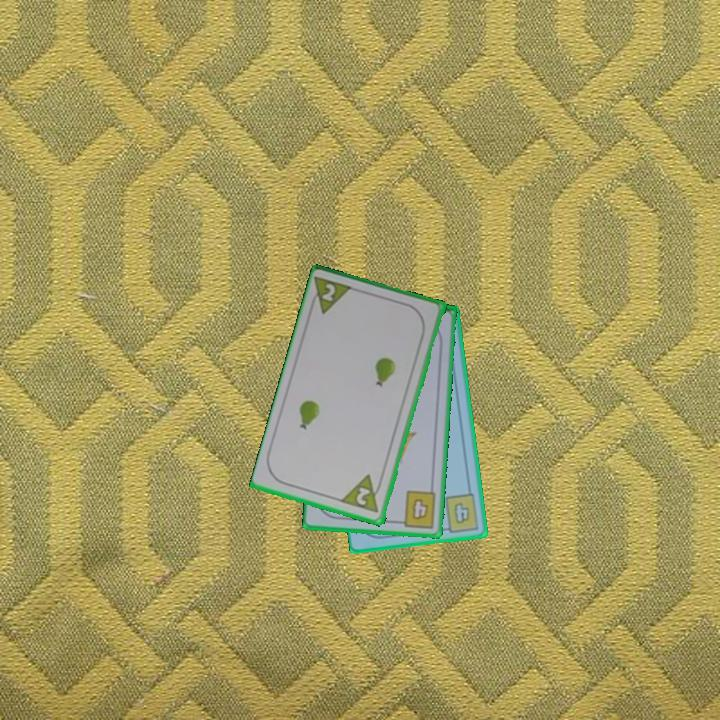2p: (305, 273, 357, 318), (339, 471, 386, 516)
4b: (438, 490, 482, 535), (394, 487, 439, 531)
